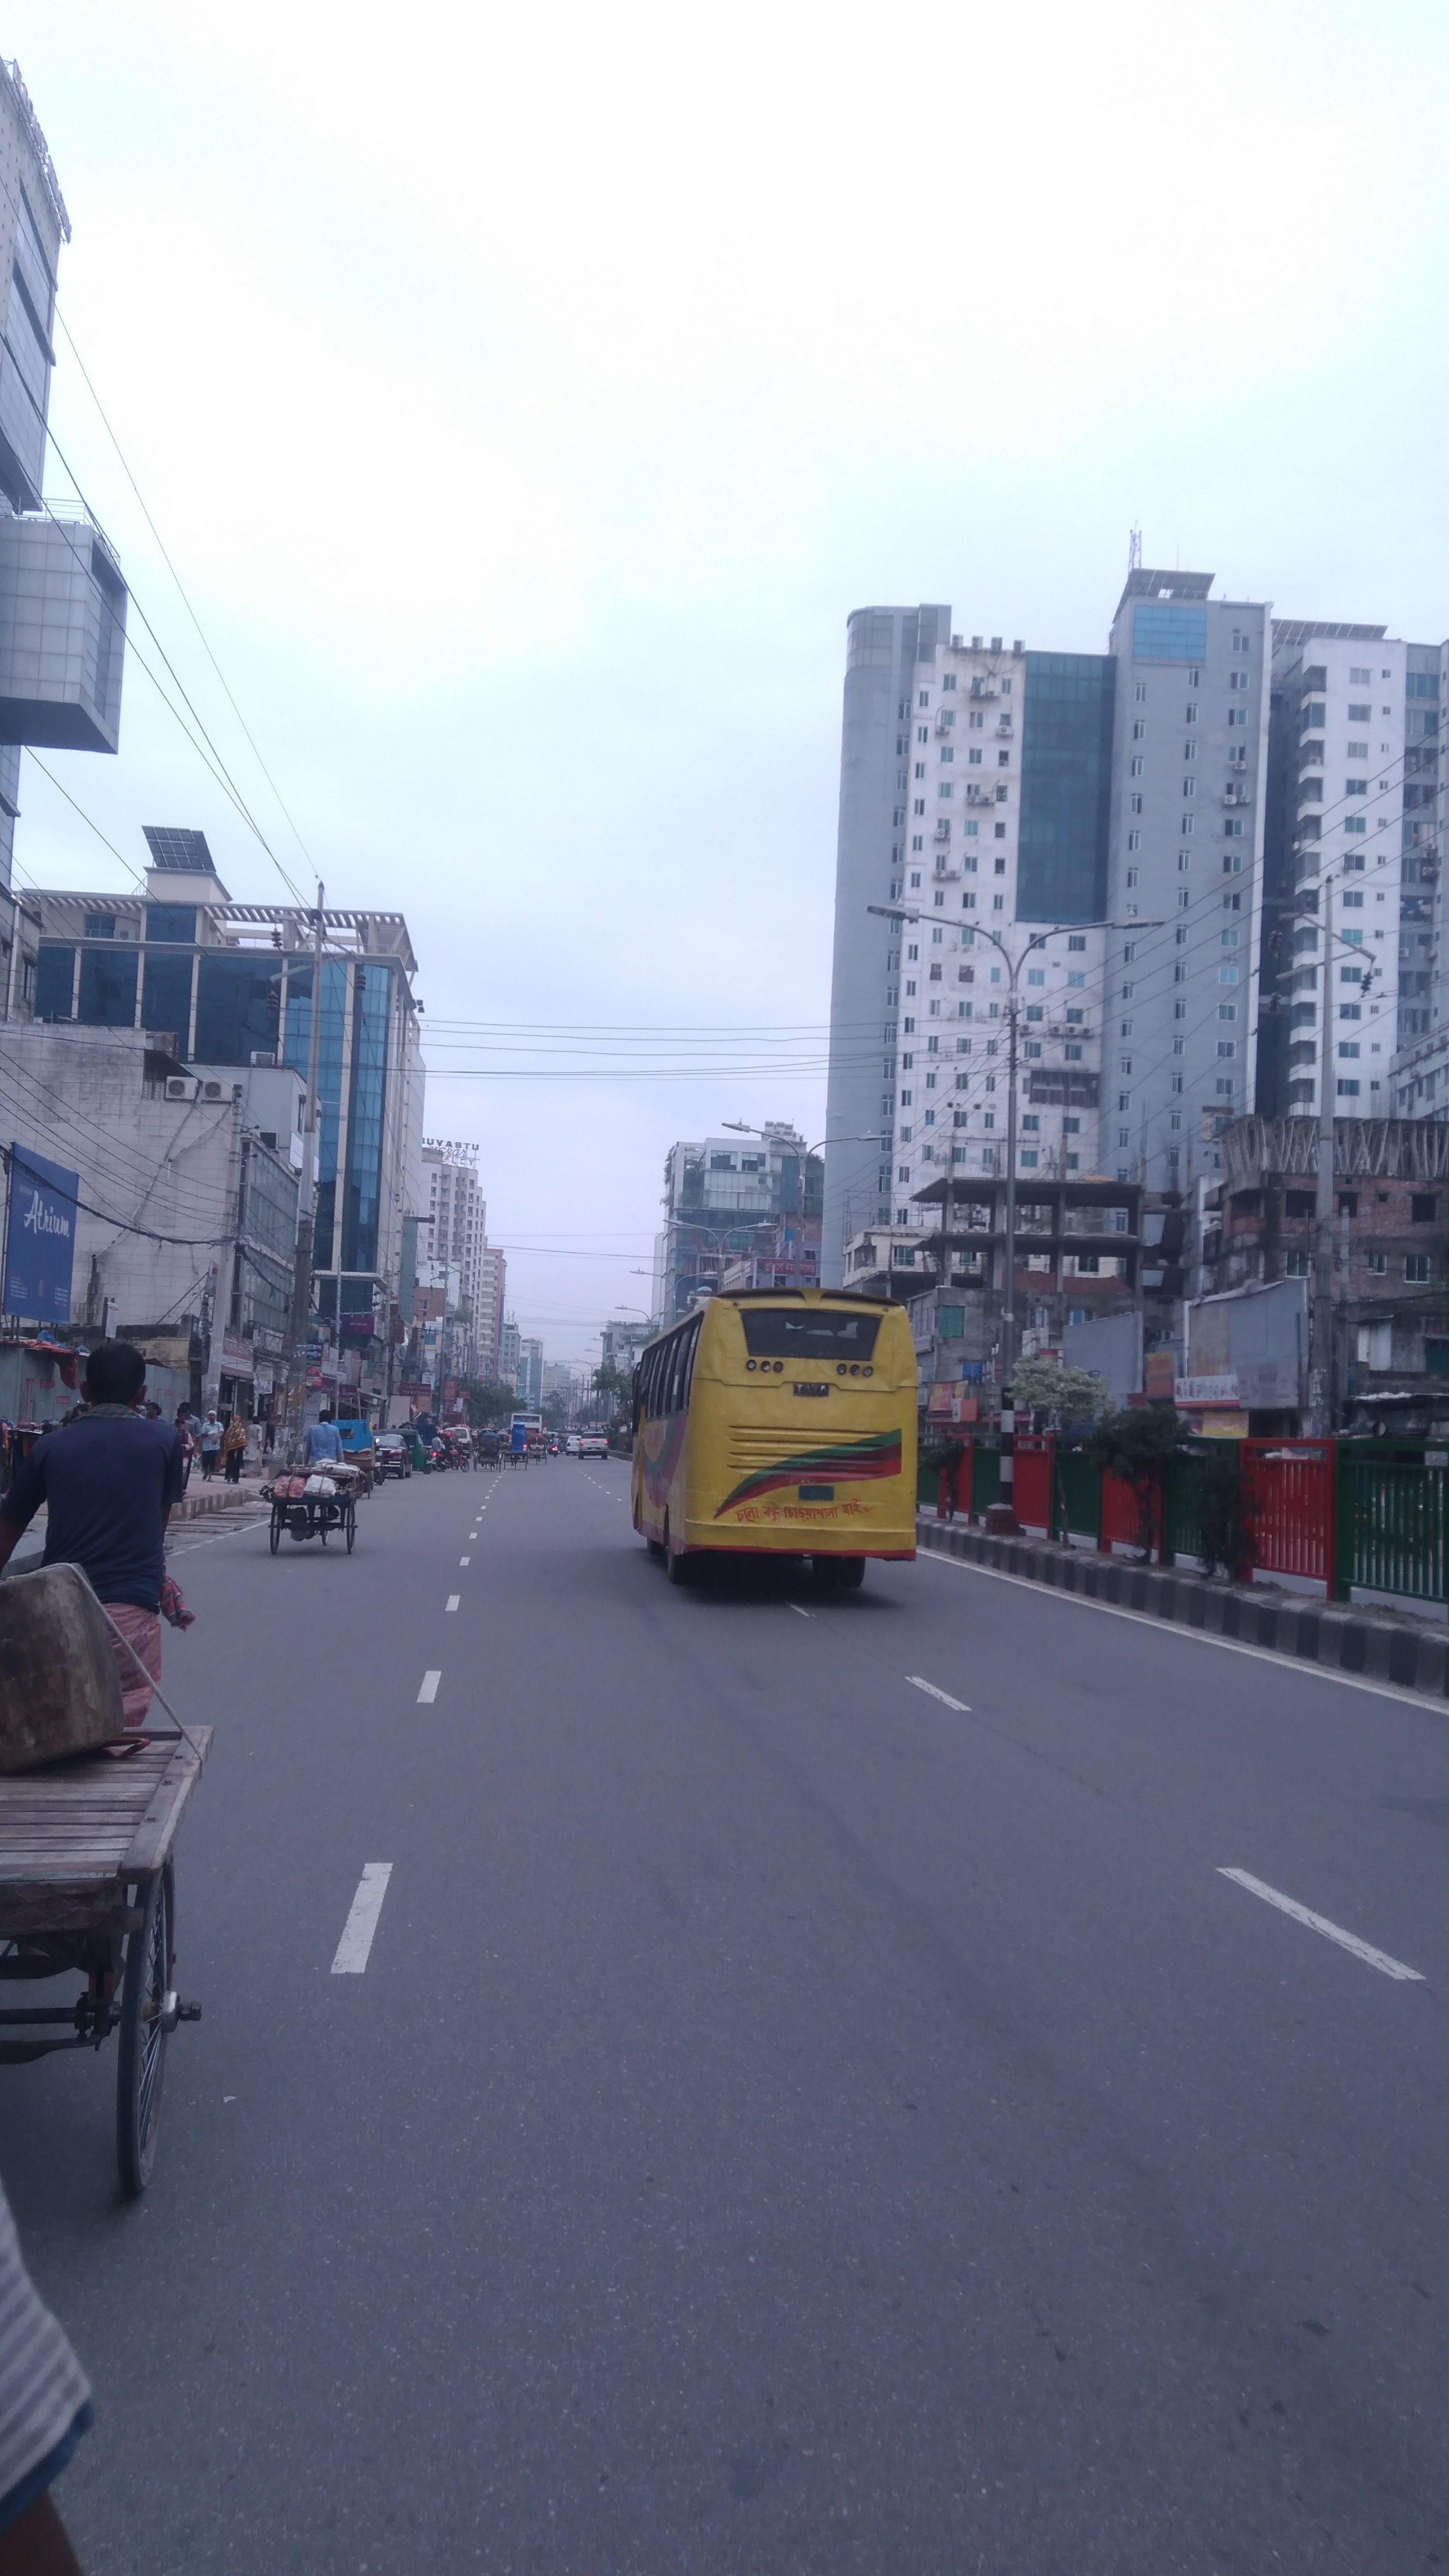bus: (633, 1299, 924, 1605)
van: (0, 1693, 205, 2196), (257, 1465, 364, 1562)
